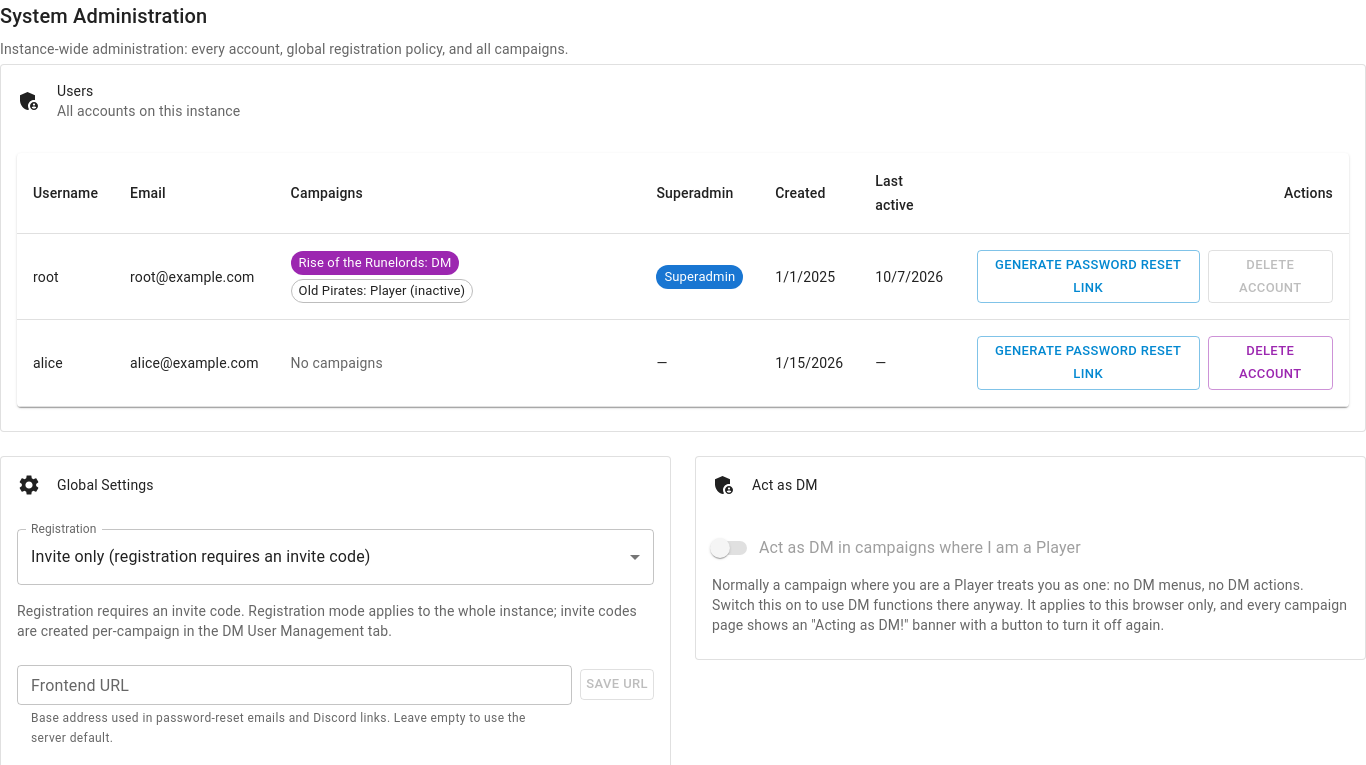
Test case: SystemAdmin › Users section › shows the expiry the server returned instead of a fixed lifetime (F-1453)
The image size is (1366, 765).
Expected: the text "alice" is shown, [17, 320, 114, 406]
Click the button "Generate password reset link" in the row of "alice@example.com": [1088, 363] box [977, 336, 1200, 390]
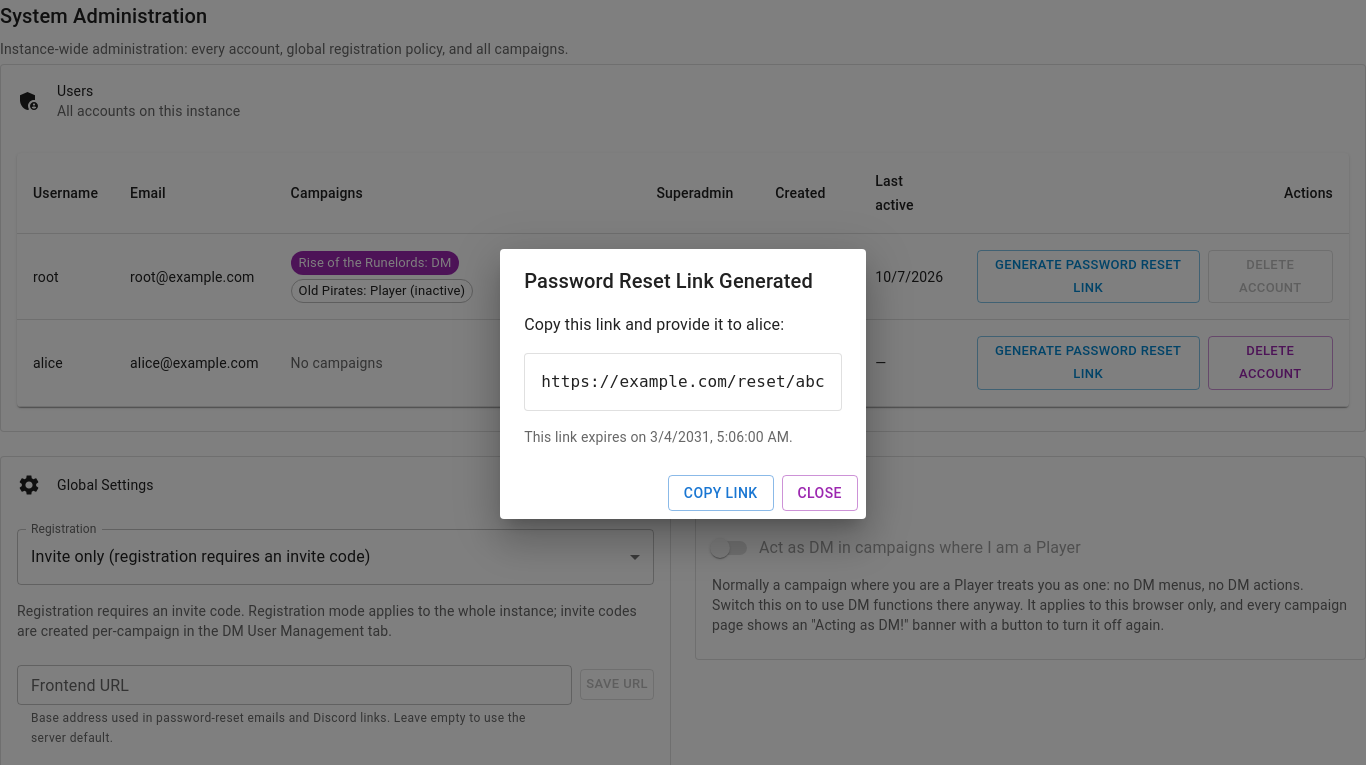
Expected: the text "https://example.com/reset/abc" is shown, [524, 353, 842, 411]
